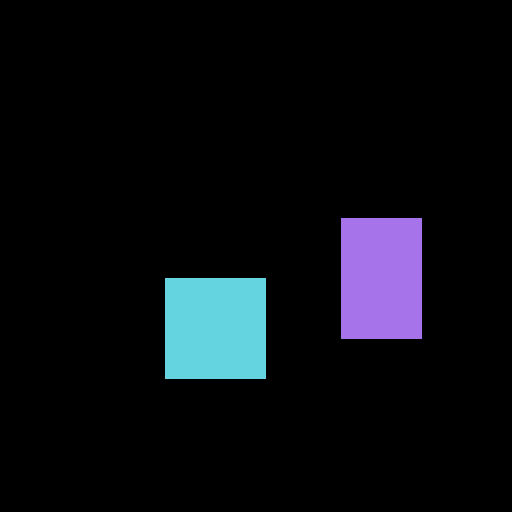rectangle: (341, 218, 421, 338)
square: (165, 278, 265, 378)
